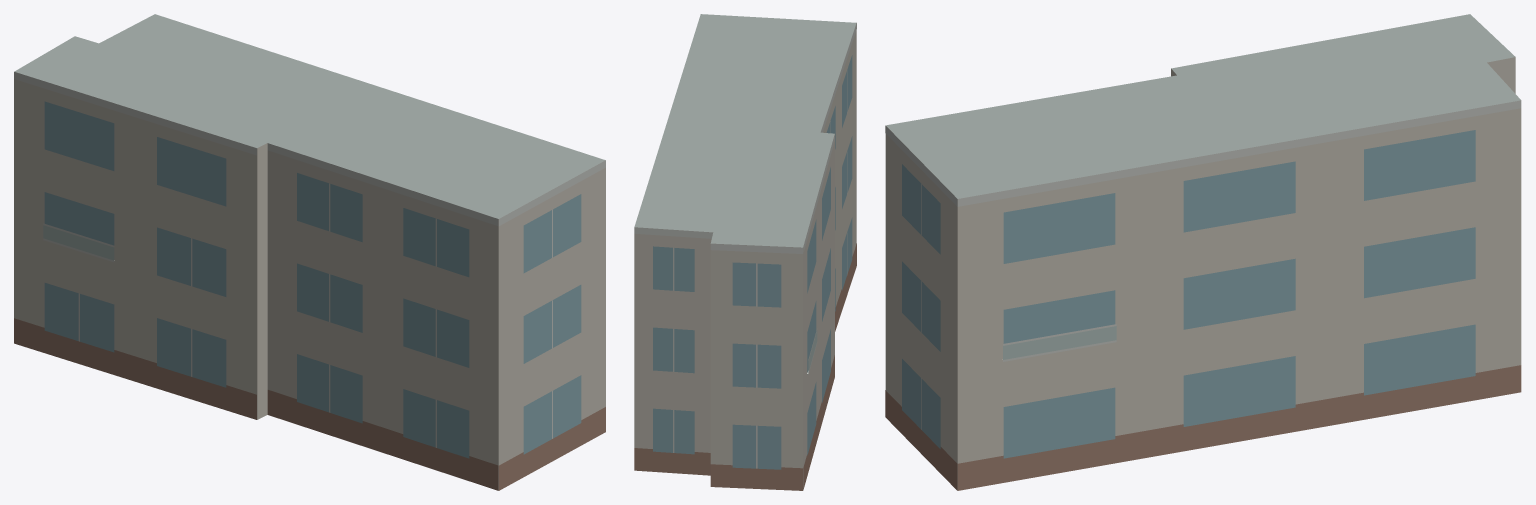
The model's file is survey-upis-32740606.glb.
The picture shows the model from 3 angles, left to right: view 1: azimuth 30°, elevation 25°; view 2: azimuth 150°, elevation 25°; view 3: azimuth 270°, elevation 25°; orthographic projection. The views are drawn at different scales.
Parts seen in each view (by area): view 1: survey-upis-32740606.tmp; view 2: survey-upis-32740606.tmp; view 3: survey-upis-32740606.tmp.
Boxes of the visible parts, x1,y1,x2,y2 form: survey-upis-32740606.tmp: (14, 14, 605, 490); survey-upis-32740606.tmp: (634, 14, 856, 490); survey-upis-32740606.tmp: (885, 14, 1521, 490).
Size of the model in its own units: 12.31 by 9.05 by 17.88.
